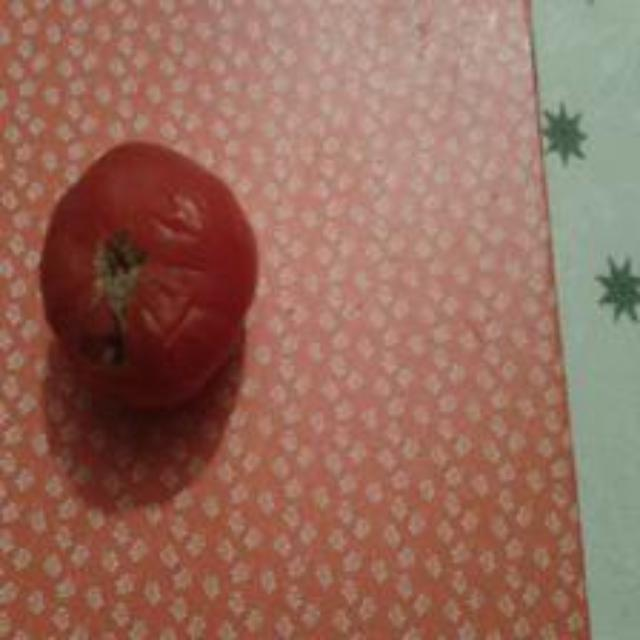defect: (36, 138, 263, 415)
